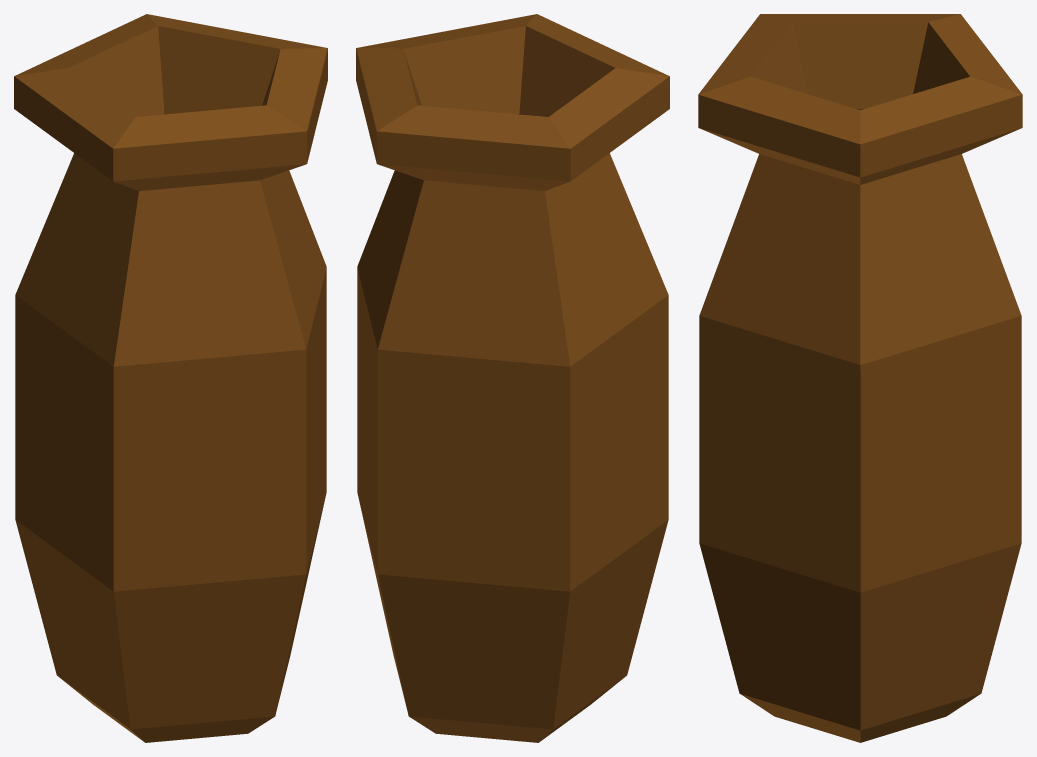
File: SM_pottery_04.fbx
3 views of the same model, side by side, from view 1: azimuth 30°, elevation 25°; view 2: azimuth 150°, elevation 25°; view 3: azimuth 270°, elevation 25° (orthographic).
Visible parts, largest first — view 1: Cylinder006; view 2: Cylinder006; view 3: Cylinder006.
Boxes of the visible parts, <box> form: Cylinder006: <box>14,14,327,742</box>; Cylinder006: <box>356,14,669,742</box>; Cylinder006: <box>698,14,1022,742</box>.
Size of the model in its own units: 11.06 by 25.44 by 11.63.
